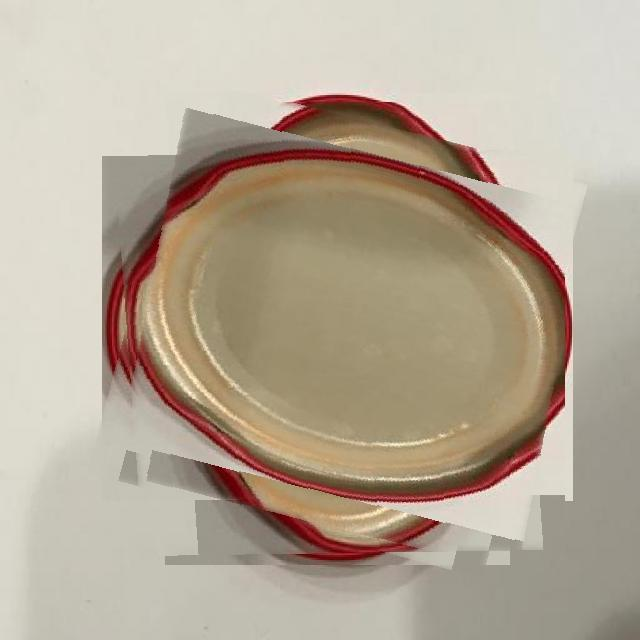recyclable: (110, 102, 565, 556)
